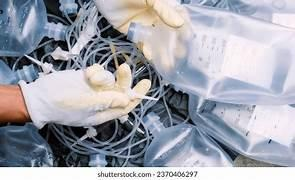Glove: (19, 64, 150, 128), (95, 0, 189, 56), (95, 0, 183, 33)
Iv_Bottle: (128, 5, 294, 104), (189, 96, 294, 165), (143, 113, 232, 166), (0, 0, 66, 55), (181, 0, 294, 27), (0, 59, 38, 84)
